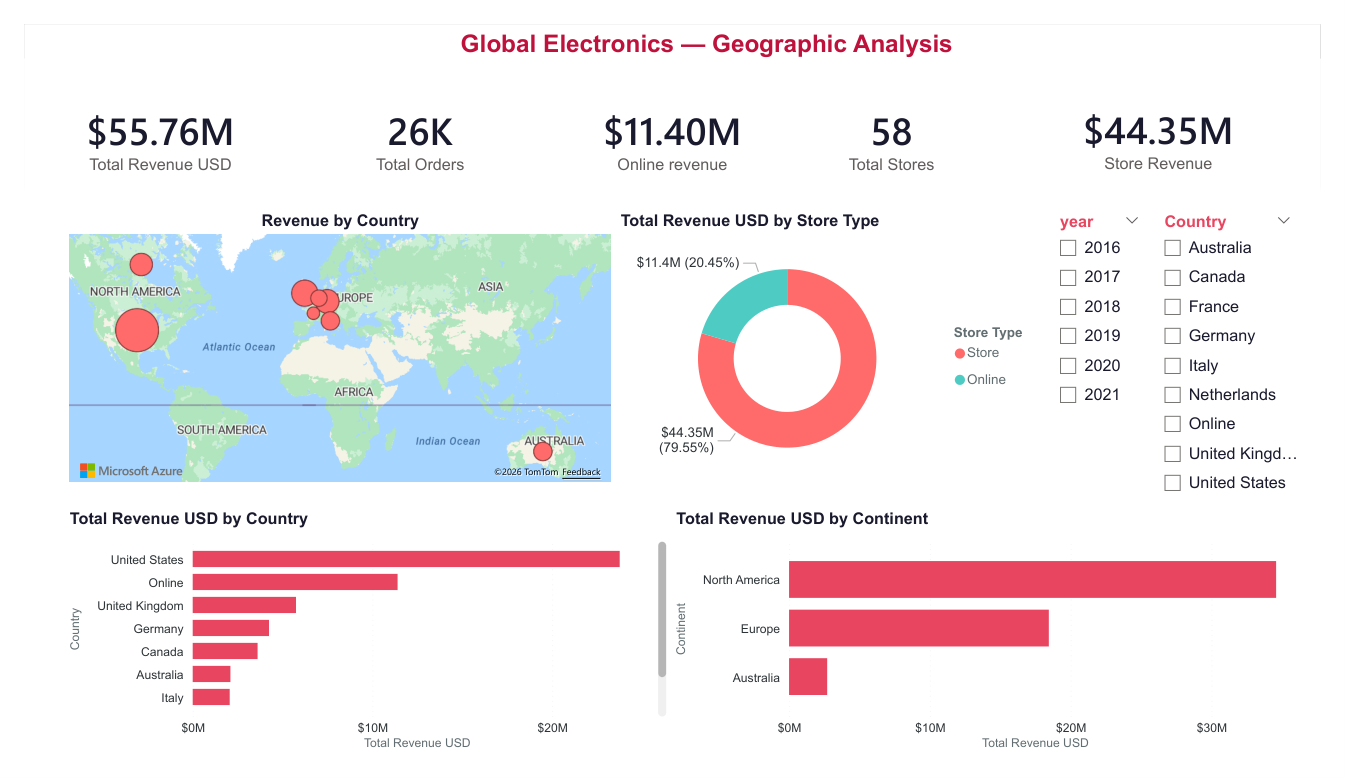

The page's visual inventory and layout, read from the dashboard file:
{"tool":"powerbi","page":{"name":"Geographic Analysis","canvas":[1280,720],"ordinal":1},"visuals":[{"type":"cardVisual","fields":{"Data":["Table_measure.Total Revenue USD"]},"box":[28.6,44.5,211.6,136.8],"z":0},{"type":"cardVisual","fields":{"Data":["Table_measure.Total Orders"]},"box":[240.2,44.5,302.2,136.8],"z":1000},{"type":"cardVisual","fields":{"Data":["Table_measure.Online revenue"]},"box":[542.4,44.5,195.6,136.8],"z":2000},{"type":"cardVisual","fields":{"Data":["Table_measure.Total Stores"]},"box":[738,44.5,237,136.8],"z":3000},{"type":"cardVisual","fields":{"Data":["Table_measure.Store Revenue"]},"box":[987.8,44.5,264,135.2],"z":4000},{"type":"azureMap","title":"Revenue by Country","fields":{"Category":["Stores.Country"],"Size":["Table_measure.Total Revenue USD"]},"box":[39.8,184.5,544,272],"z":5000},{"type":"clusteredBarChart","fields":{"Category":["Stores.Country"],"Y":["Table_measure.Total Revenue USD"]},"box":[39.8,480.4,599.7,240.2],"z":6000},{"type":"donutChart","fields":{"Category":["Sales.Store Type"],"Y":["Table_measure.Total Revenue USD"]},"box":[583.8,184.5,426.3,272],"z":7000},{"type":"clusteredBarChart","fields":{"Category":["Customers.Continent"],"Y":["Table_measure.Total Revenue USD"]},"box":[639.4,480.4,623.5,240.2],"z":8000},{"type":"slicer","fields":{"Values":["dim_date.year"]},"box":[1010,181.3,103.4,224.3],"z":9000},{"type":"slicer","fields":{"Values":["Stores.Country"]},"box":[1113.4,181.3,149.5,299],"z":10000},{"type":"textbox","box":[203.6,0,940.1,44.5],"z":11000}]}

Visuals, with their boxes in screenshot pixels (x1, y1, x2, y2), scaled from the page's 1280x720 canvas onto the 1345x778 screenshot:
cardVisual - Table_measure.Total Revenue USD: [left=30, top=48, right=252, bottom=196]
cardVisual - Table_measure.Total Orders: [left=252, top=48, right=570, bottom=196]
cardVisual - Table_measure.Online revenue: [left=570, top=48, right=775, bottom=196]
cardVisual - Table_measure.Total Stores: [left=775, top=48, right=1025, bottom=196]
cardVisual - Table_measure.Store Revenue: [left=1038, top=48, right=1315, bottom=194]
"Revenue by Country" azureMap: [left=42, top=199, right=613, bottom=493]
clusteredBarChart - Stores.Country x Table_measure.Total Revenue USD: [left=42, top=519, right=672, bottom=777]
donutChart - Sales.Store Type x Table_measure.Total Revenue USD: [left=613, top=199, right=1061, bottom=493]
clusteredBarChart - Customers.Continent x Table_measure.Total Revenue USD: [left=672, top=519, right=1327, bottom=777]
slicer - dim_date.year: [left=1061, top=196, right=1170, bottom=438]
slicer - Stores.Country: [left=1170, top=196, right=1327, bottom=519]
textbox: [left=214, top=0, right=1202, bottom=48]
